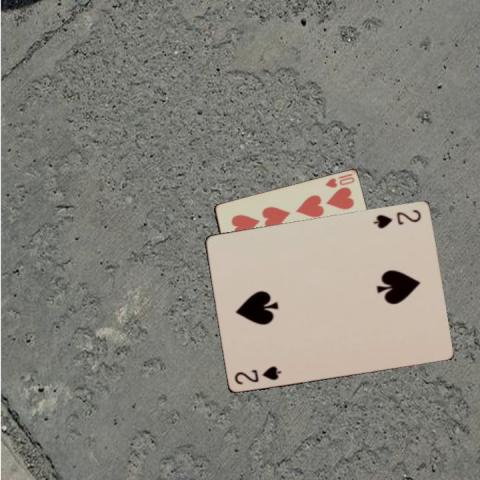10h: (322, 171, 356, 189)
2s: (230, 363, 283, 387), (371, 206, 422, 230)
